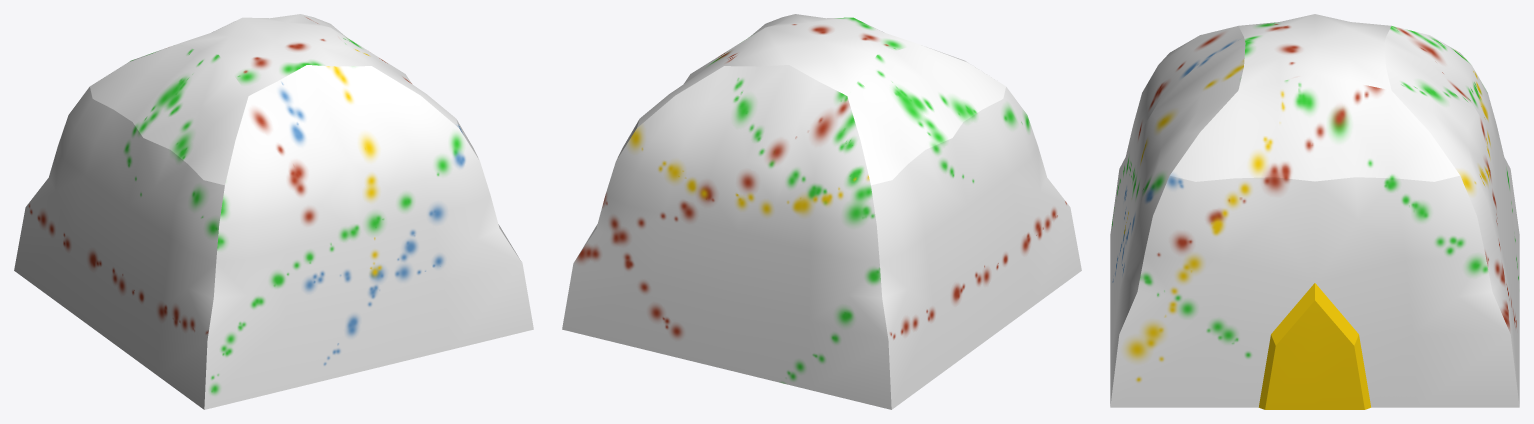
File: Base_level1.FBX
The picture shows the model from 3 angles, left to right: view 1: azimuth 30°, elevation 25°; view 2: azimuth 150°, elevation 25°; view 3: azimuth 270°, elevation 25°; orthographic projection. The views are drawn at different scales.
Parts seen in each view (by area): view 1: Box001; view 2: Box001; view 3: Box001.
Part boxes in pixels (x1=…): Box001: x1=14, y1=14, x2=533, y2=409; Box001: x1=562, y1=14, x2=1081, y2=409; Box001: x1=1110, y1=14, x2=1519, y2=409.
Bounding box in the file's own units: 40.54 × 30 × 40.
1 material, 1 textured.
